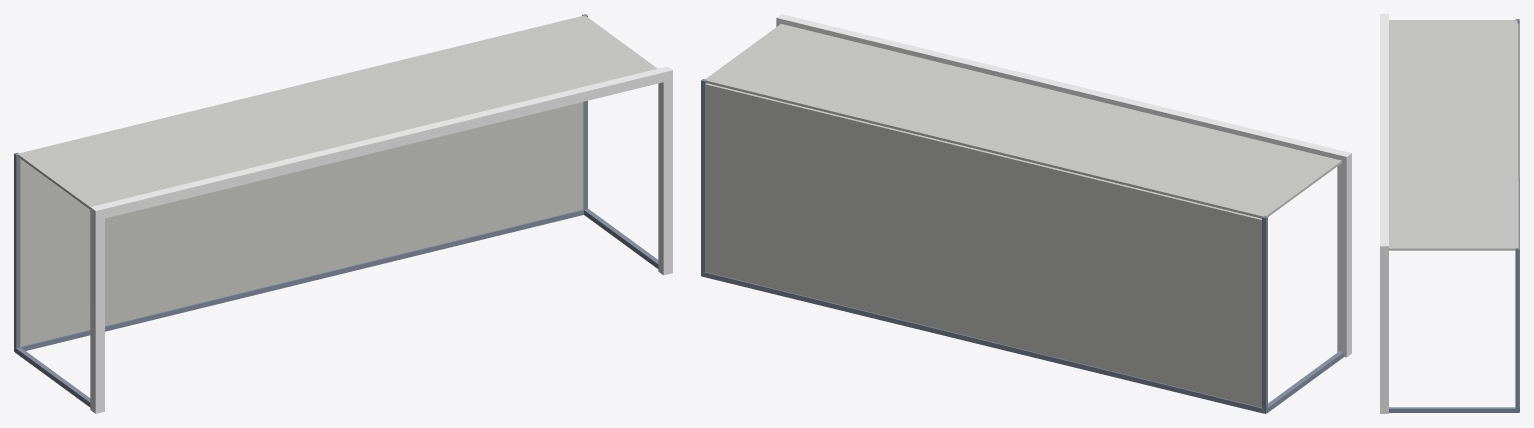
Rendered from goal_soccer.glb.
3 renders of one model, left to right at view 1: azimuth 30°, elevation 25°; view 2: azimuth 150°, elevation 25°; view 3: azimuth 270°, elevation 25°, orthographic. The views are drawn at different scales.
Visible parts, largest first — view 1: goal_soccer_offwhite, goal_soccer_white, goal_soccer_metal; view 2: goal_soccer_offwhite, goal_soccer_white, goal_soccer_metal; view 3: goal_soccer_offwhite, goal_soccer_white, goal_soccer_metal.
Boxes of the visible parts, x1,y1,x2,y2 form: goal_soccer_offwhite: (17, 15, 657, 346); goal_soccer_white: (90, 66, 672, 413); goal_soccer_metal: (14, 14, 658, 407); goal_soccer_offwhite: (705, 24, 1341, 407); goal_soccer_white: (776, 14, 1351, 357); goal_soccer_metal: (701, 79, 1344, 413); goal_soccer_offwhite: (1389, 20, 1518, 250); goal_soccer_white: (1380, 14, 1388, 413); goal_soccer_metal: (1389, 19, 1519, 412).
Size of the model in its own units: 7.44 by 2.5 by 1.89.
